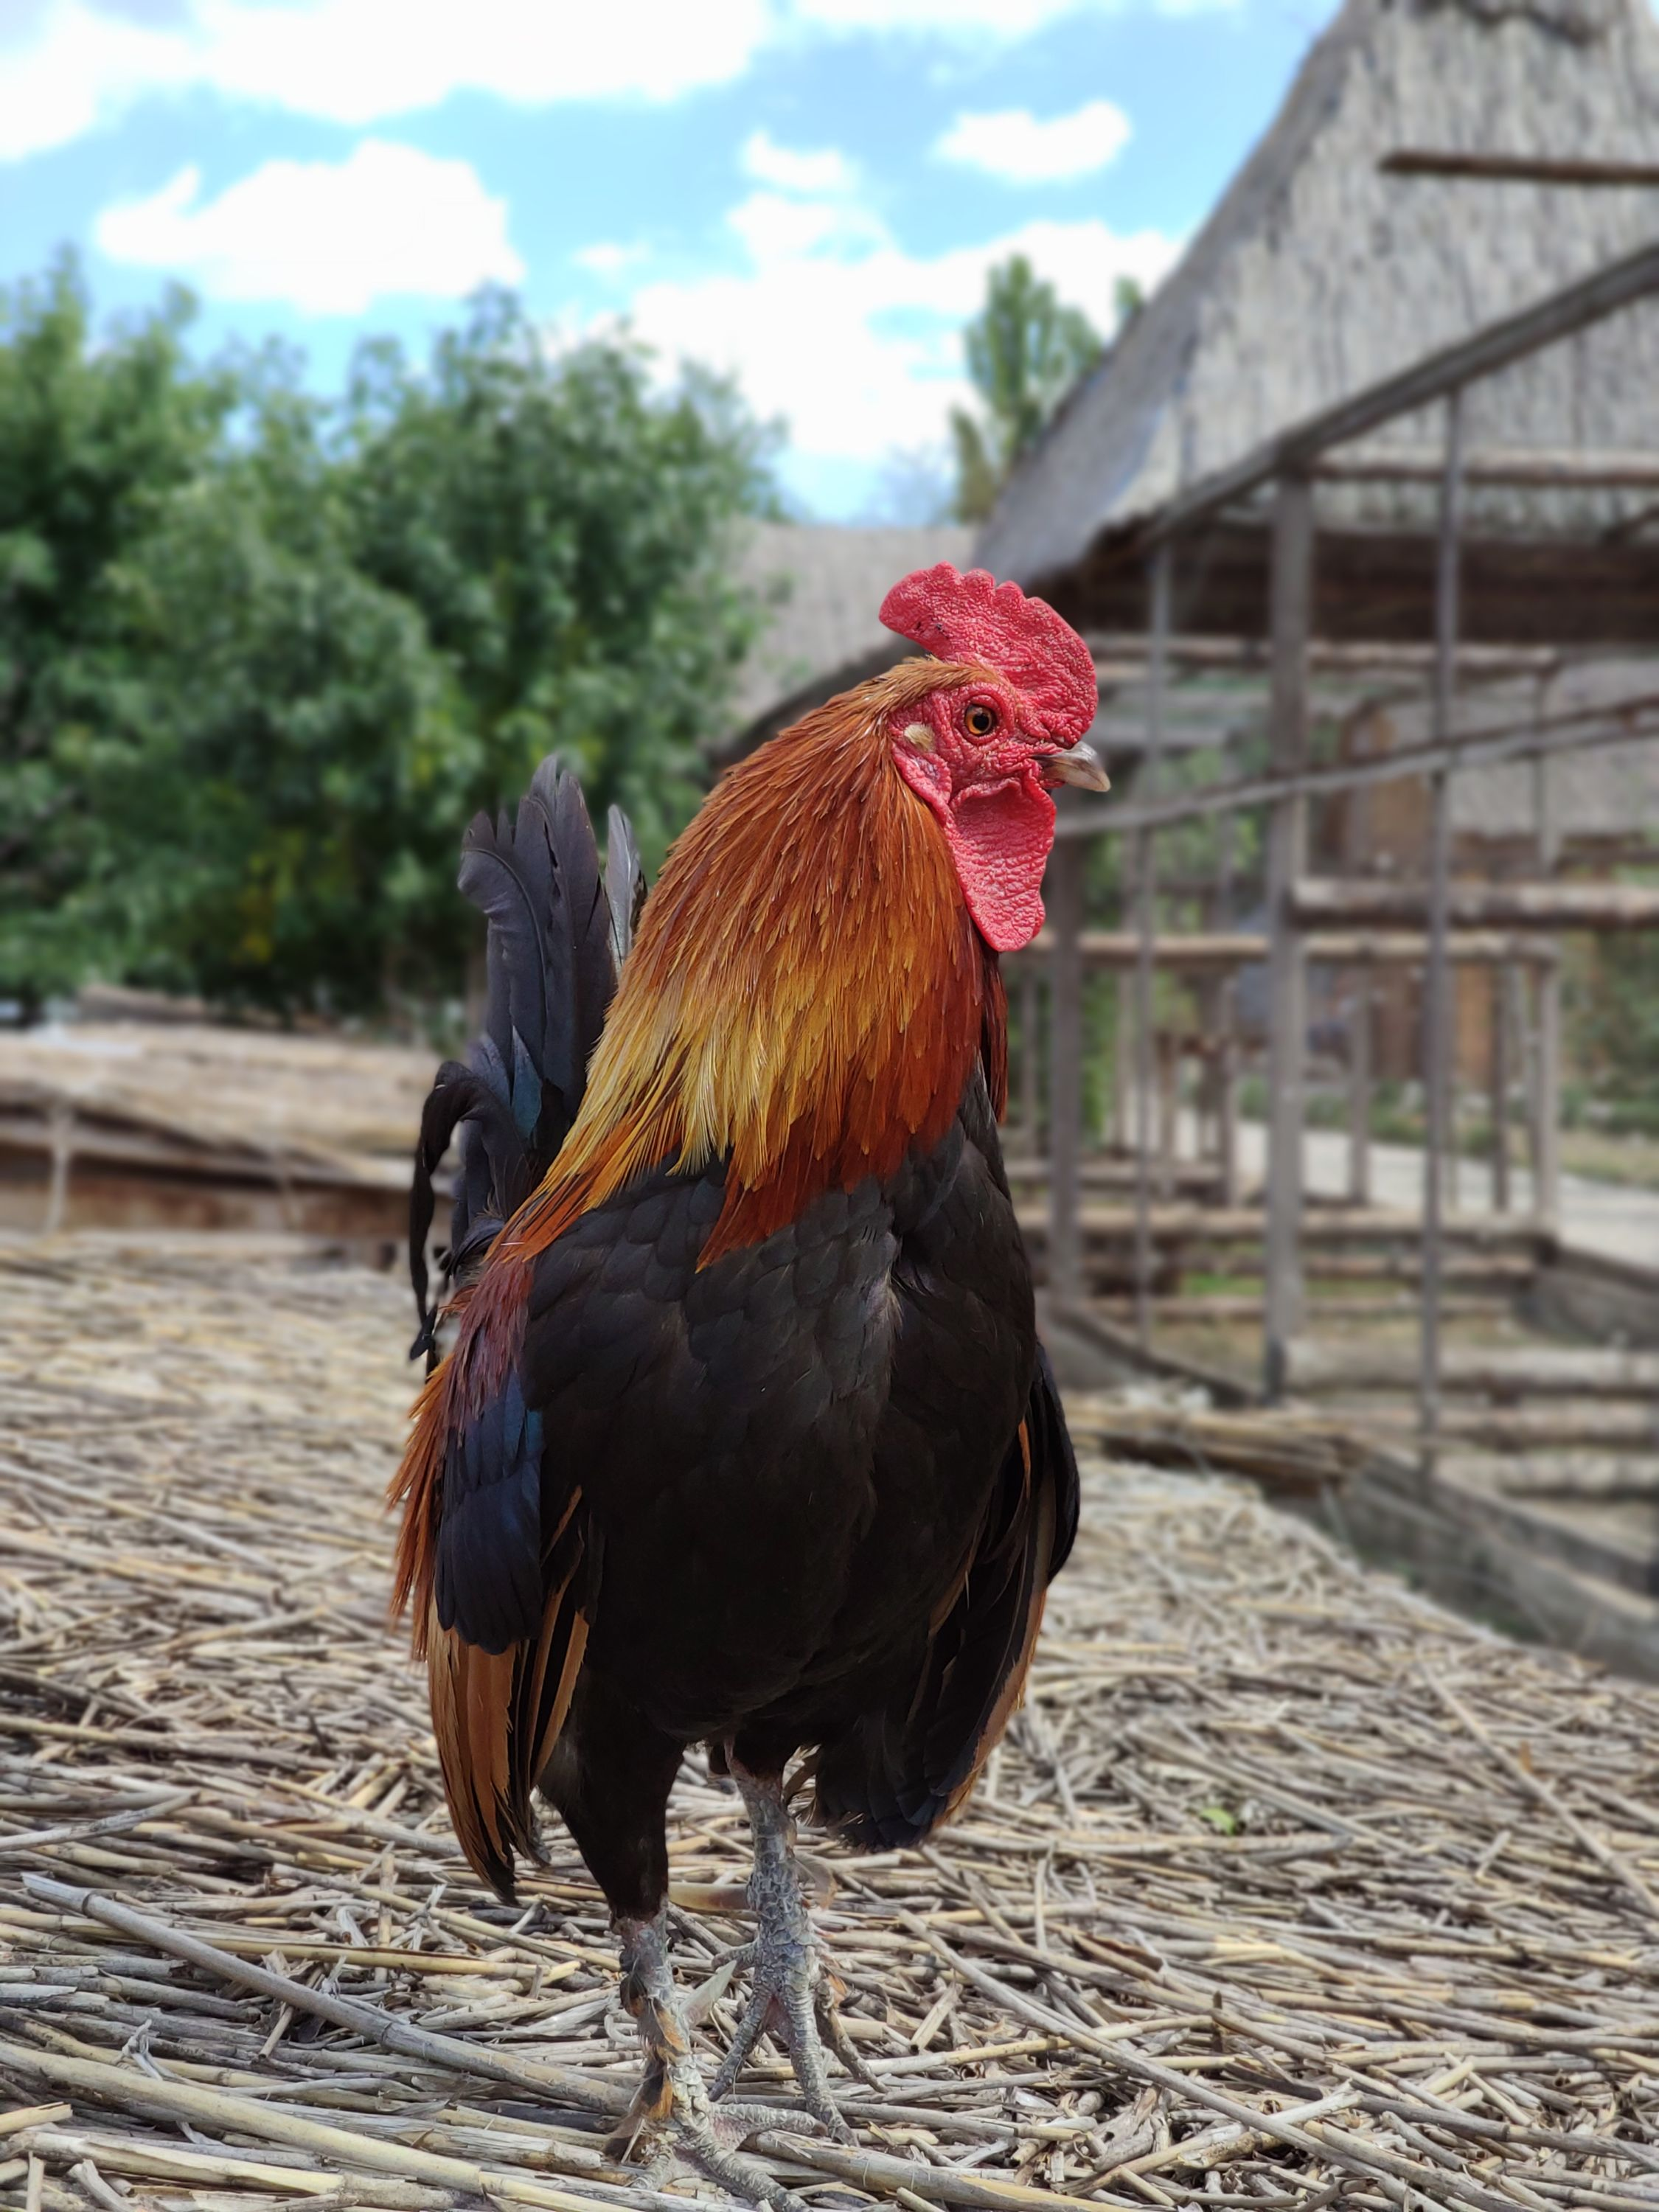chicken: (385, 559, 1121, 2165)
